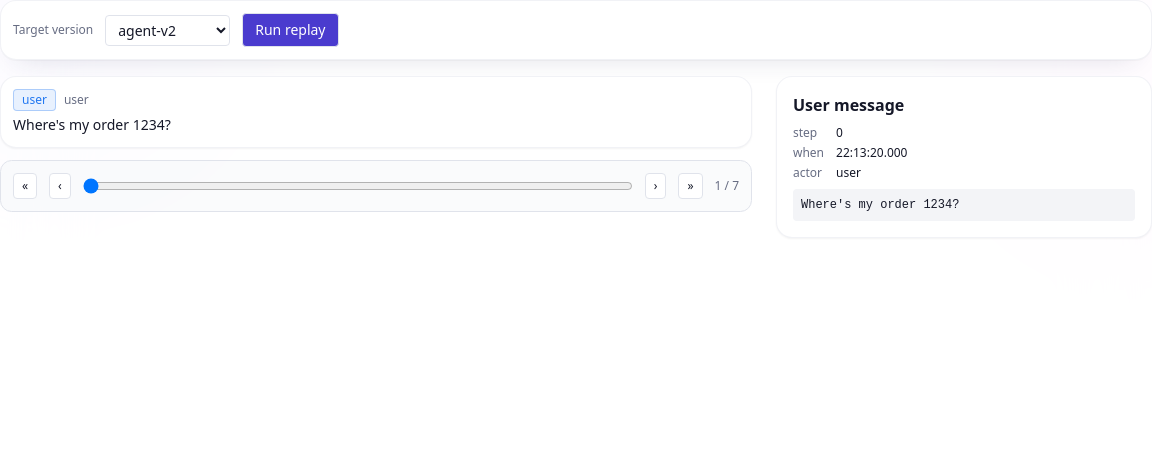
Test: ReplayPlayer › scrubbing forward through tokens collapses to one agent bubble
This screenshot has width=1152, height=469.
Set the slider with test id "replay-scrubber" to "5": (536, 186) [83,178,633,194]
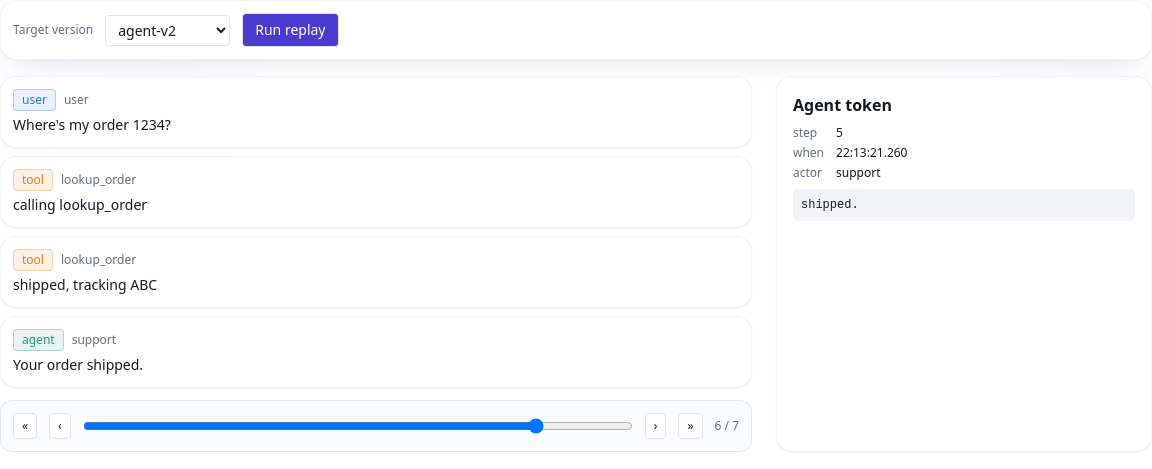
Now the list item with test id "replay-bubble" shows "Your order shipped.", box [13,355,143,374]
